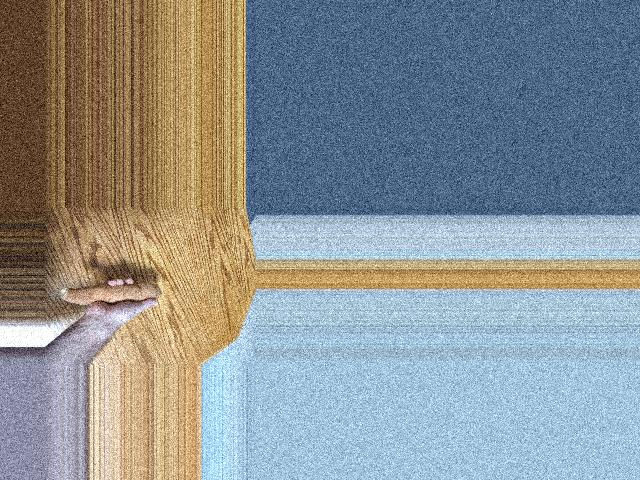sweet_potato: (58, 278, 168, 311)
